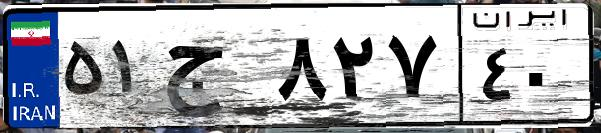0: (525, 38, 570, 115)
1: (110, 28, 158, 98)
2: (330, 28, 385, 110)
4: (475, 38, 525, 113)
5: (57, 26, 110, 100)
7: (385, 28, 445, 110)
8: (270, 28, 330, 110)
ج: (158, 20, 270, 120)
